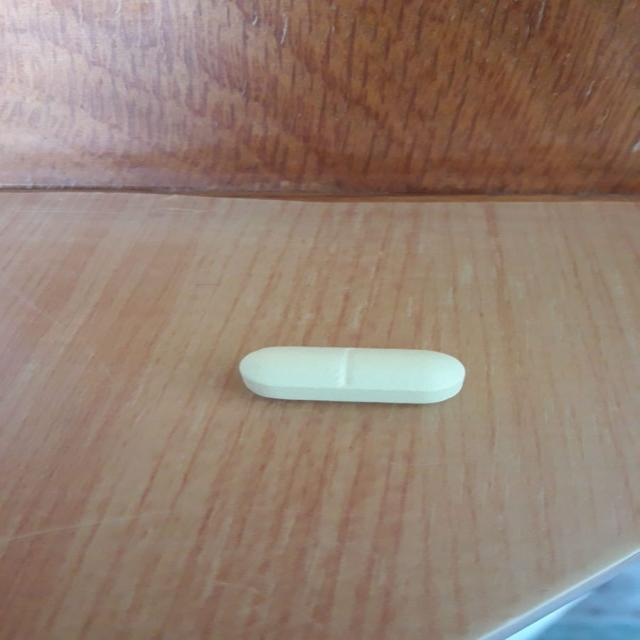pills: (218, 331, 482, 417)
